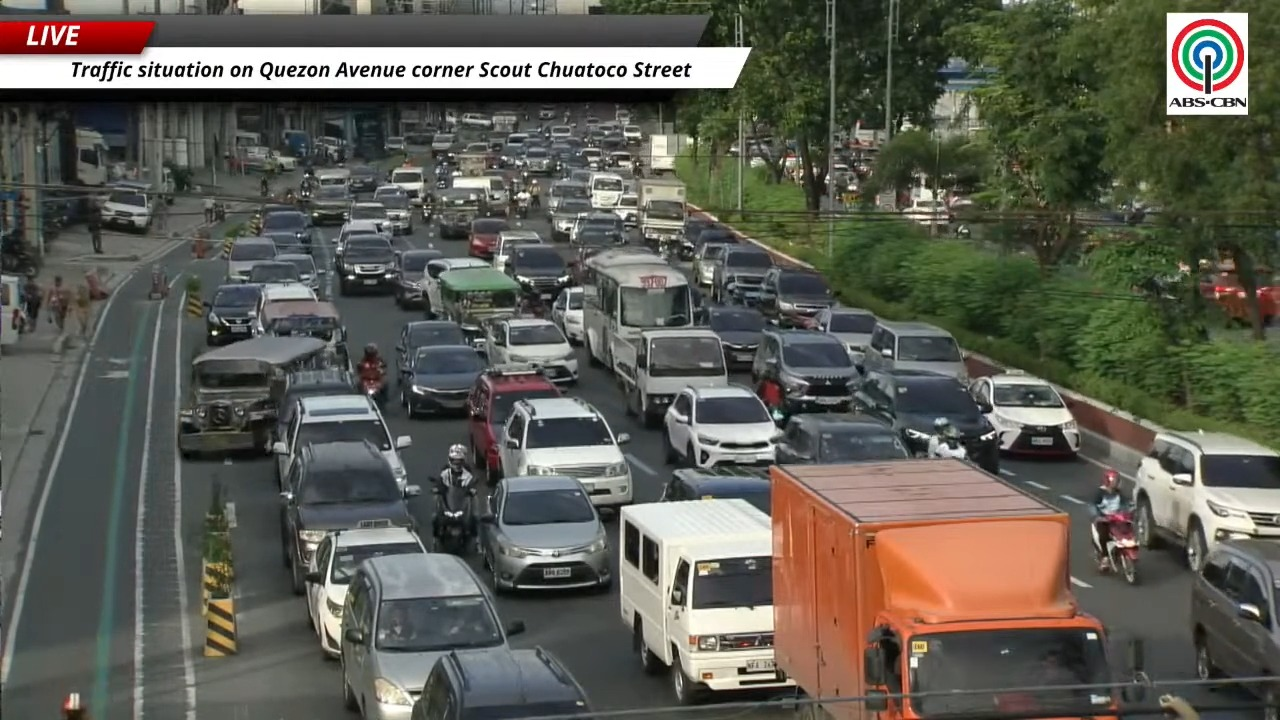bus: (584, 256, 694, 372), (588, 172, 624, 211)
car: (340, 554, 524, 719), (281, 440, 419, 594), (1133, 430, 1279, 571), (305, 524, 426, 657), (854, 370, 999, 474), (481, 476, 611, 591), (499, 398, 633, 507), (272, 394, 411, 489), (411, 647, 589, 719), (1190, 539, 1279, 681), (468, 364, 561, 475), (663, 386, 779, 467), (750, 328, 859, 414), (969, 373, 1080, 455), (777, 414, 911, 463), (272, 369, 359, 442), (863, 319, 967, 380), (399, 343, 484, 417), (485, 317, 578, 383), (659, 465, 770, 513), (760, 267, 834, 328), (422, 257, 489, 318), (504, 242, 571, 301), (703, 306, 766, 368), (813, 307, 877, 366), (712, 244, 774, 304), (394, 320, 466, 371), (206, 283, 261, 346), (251, 283, 317, 334), (337, 235, 394, 294), (393, 249, 442, 308), (99, 183, 155, 231), (258, 210, 314, 253), (225, 237, 278, 282), (335, 219, 389, 258), (492, 230, 543, 270), (373, 185, 413, 235), (551, 286, 584, 344), (276, 253, 326, 291), (387, 163, 428, 206), (569, 211, 624, 243), (551, 197, 591, 241), (468, 218, 510, 259), (308, 185, 350, 225), (247, 202, 297, 235), (692, 242, 727, 287), (545, 181, 588, 217), (348, 201, 390, 234), (247, 259, 301, 284), (692, 221, 738, 246), (521, 147, 556, 176), (575, 227, 625, 247), (348, 165, 382, 192), (614, 191, 638, 228), (430, 133, 457, 158), (538, 104, 558, 130), (623, 124, 642, 144), (383, 136, 404, 153), (550, 125, 572, 139)
motorcycle: (432, 472, 475, 556), (1100, 508, 1138, 584), (361, 373, 385, 409), (924, 441, 967, 459), (659, 238, 679, 262), (212, 202, 226, 222), (517, 203, 528, 219)
truck: (770, 459, 1116, 719), (580, 251, 693, 426), (613, 326, 728, 428), (638, 177, 686, 245), (74, 127, 109, 186), (642, 134, 685, 174), (456, 153, 488, 176)
